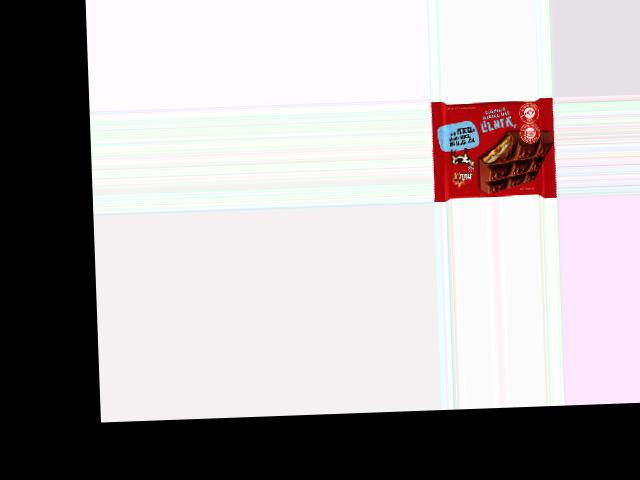chocolate: (434, 96, 555, 200)
